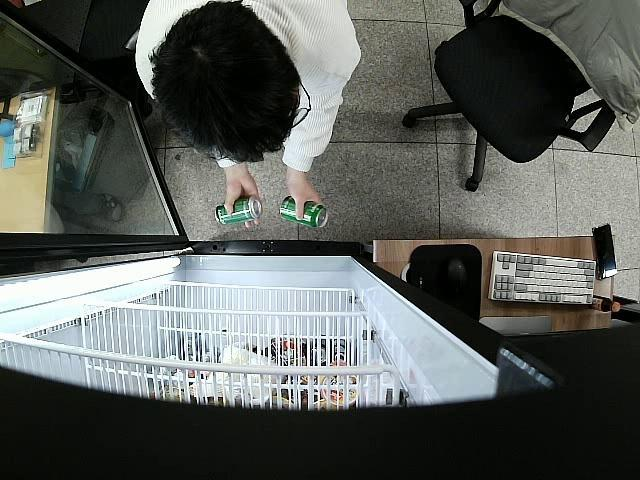12_chilsungCider: (280, 198, 328, 227), (215, 195, 262, 224)
